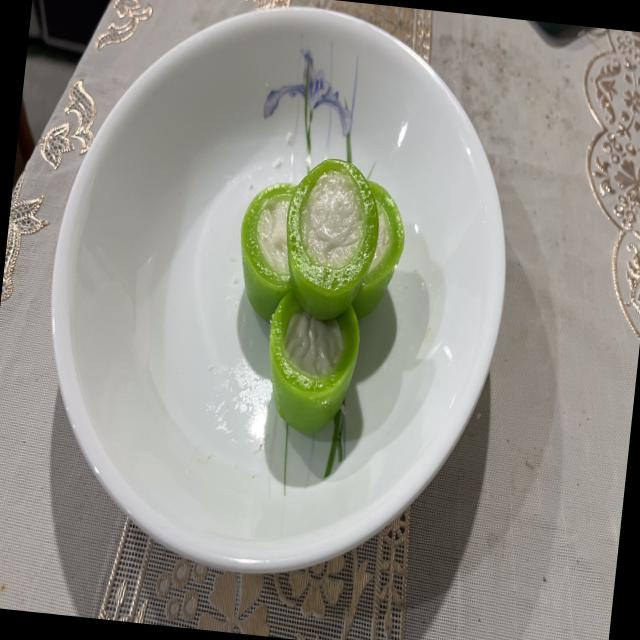nona-manis: (286, 158, 379, 321), (269, 290, 360, 433), (240, 182, 295, 319), (352, 182, 404, 318)
